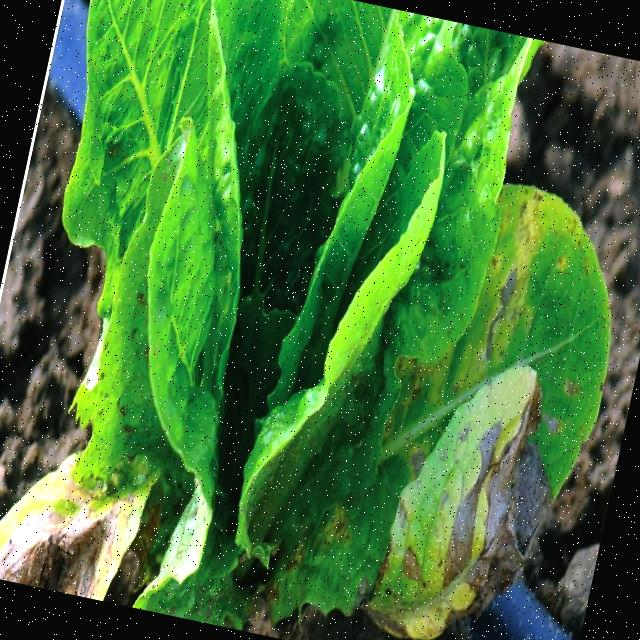Downy_mildew_on_lettuce: (335, 169, 618, 640)
